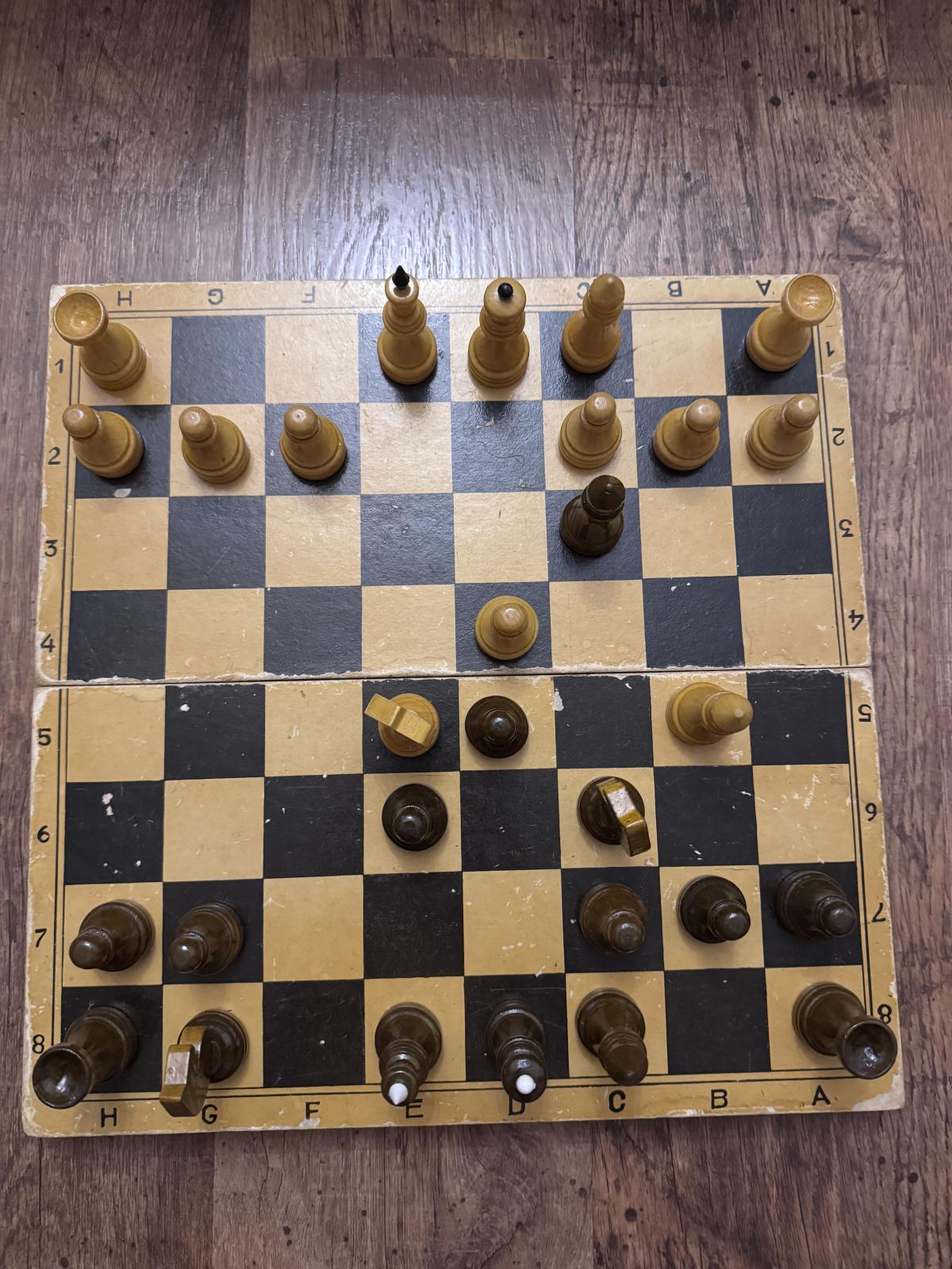Chess-Board: (57, 307, 871, 1094)
